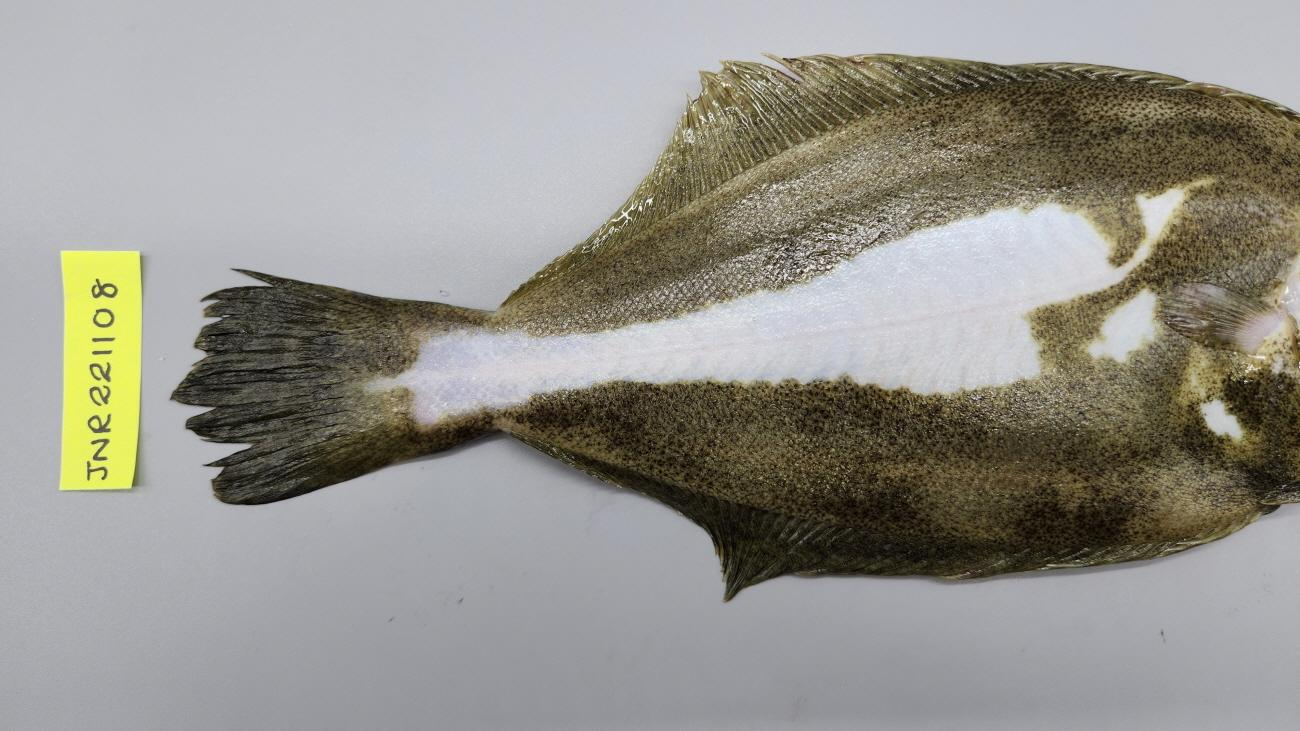POOUN: (169, 52, 1300, 608)
